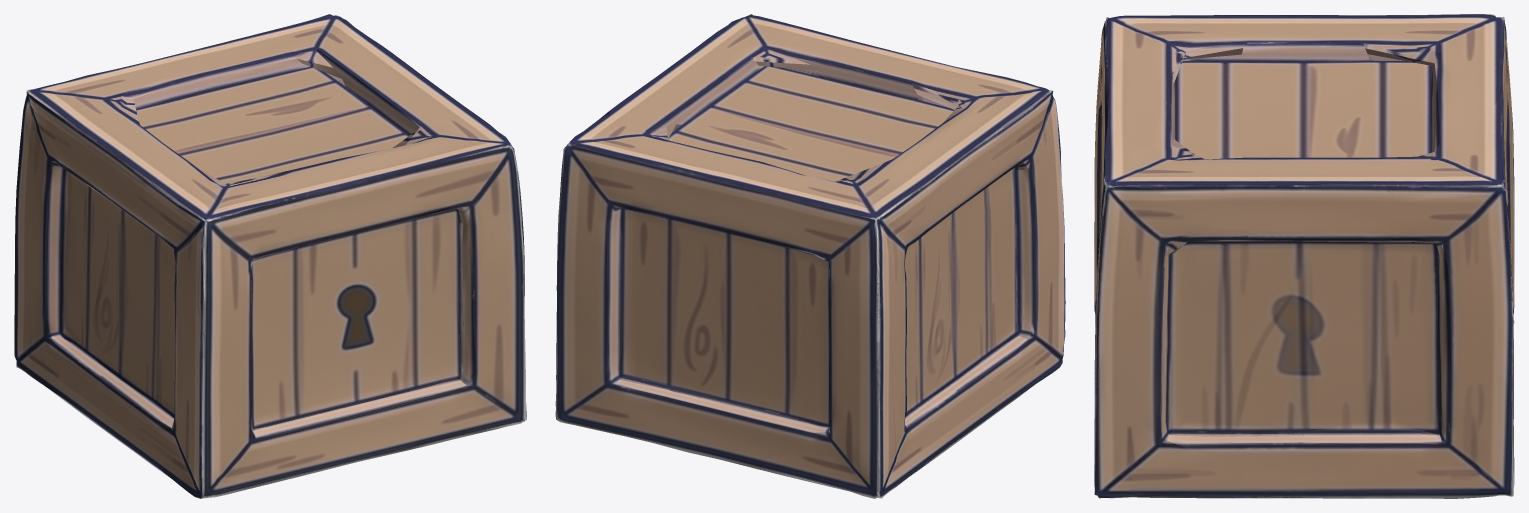
File: Wooden_Crate_texture.fbx
3 views of the same model, side by side, from view 1: azimuth 30°, elevation 25°; view 2: azimuth 150°, elevation 25°; view 3: azimuth 270°, elevation 25° (orthographic). The views are drawn at different scales.
Visible parts, largest first — view 1: Mesh0; view 2: Mesh0; view 3: Mesh0.
Part boxes in pixels (x1,y1,x2,y2): Mesh0: [14, 14, 526, 498]; Mesh0: [555, 14, 1065, 498]; Mesh0: [1094, 14, 1514, 498].
Bounding box in the file's own units: 100 × 82.17 × 100.
1 material, 1 textured.
